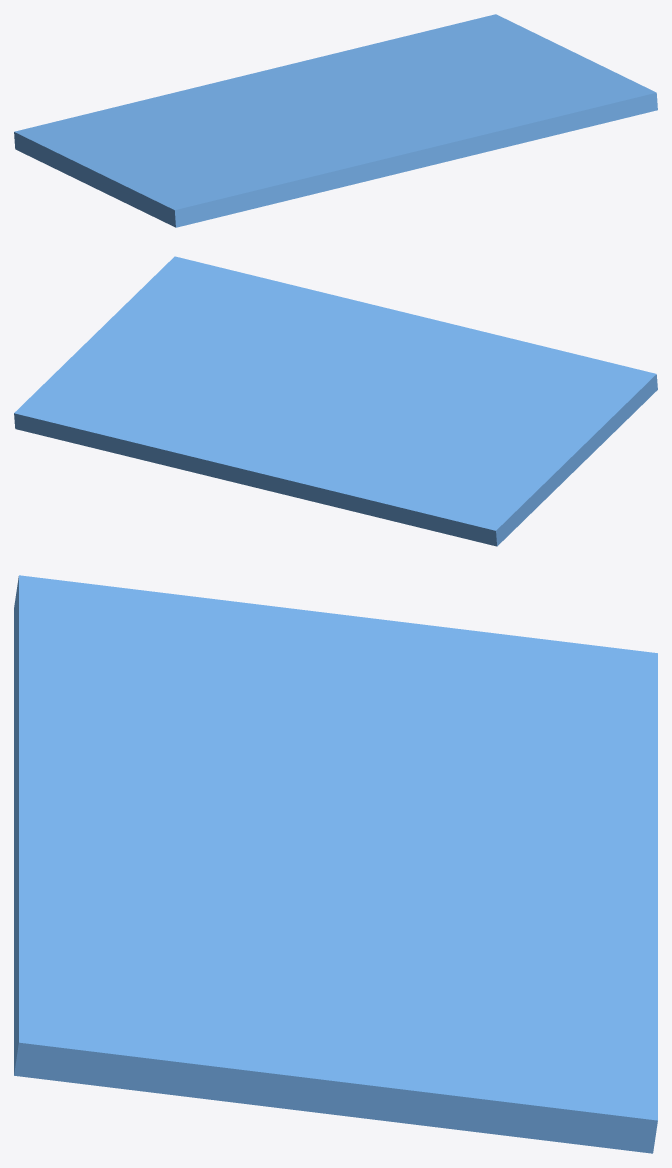
Rendered from panel.dae.
The picture shows the model from 3 angles, top to bottom: view 1: azimuth 30°, elevation 25°; view 2: azimuth 150°, elevation 25°; view 3: azimuth 270°, elevation 25°; orthographic projection. The views are drawn at different scales.
Parts seen in each view (by area): view 1: Instance-Def-panel_-_740x1250-353184-_3D_; view 2: Instance-Def-panel_-_740x1250-353184-_3D_; view 3: Instance-Def-panel_-_740x1250-353184-_3D_.
Part boxes in pixels (x1,y1,x2,y2): Instance-Def-panel_-_740x1250-353184-_3D_: (14,14,657,227); Instance-Def-panel_-_740x1250-353184-_3D_: (14,256,657,546); Instance-Def-panel_-_740x1250-353184-_3D_: (14,575,657,1153).
Bounding box in the file's own units: 1199 × 698 × 133.
